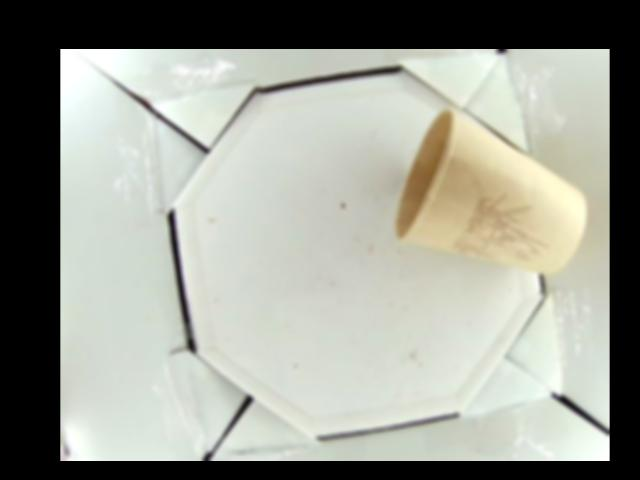Cup: (395, 109, 585, 274)
